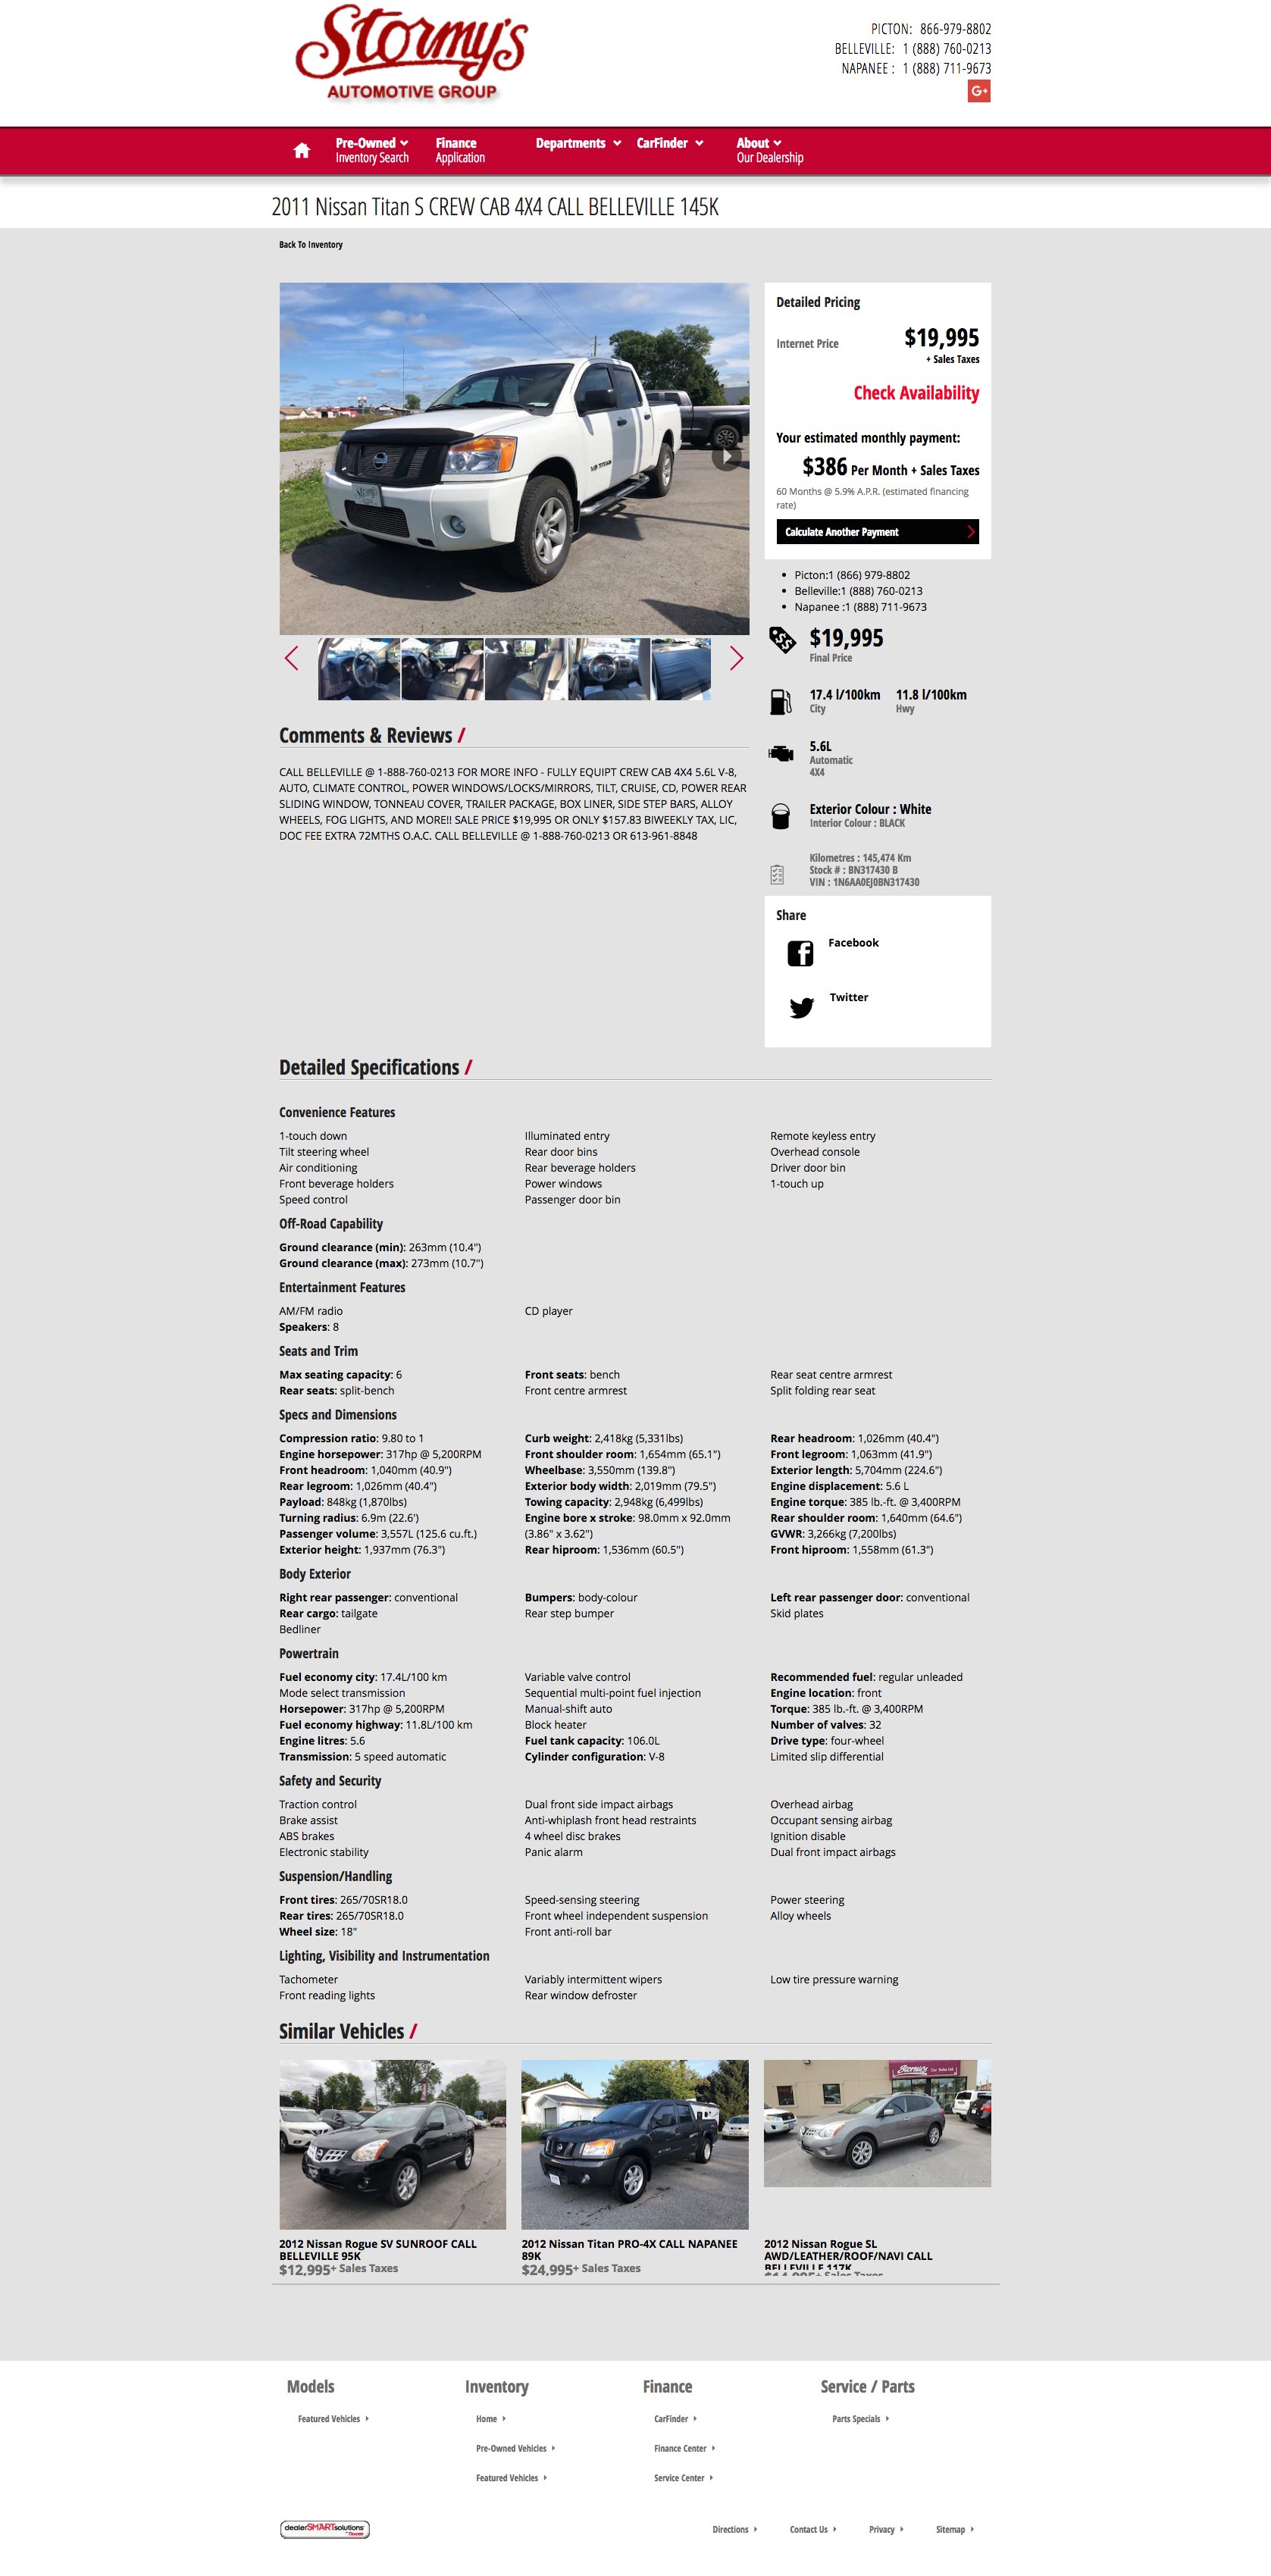car: (729, 646, 746, 672)
